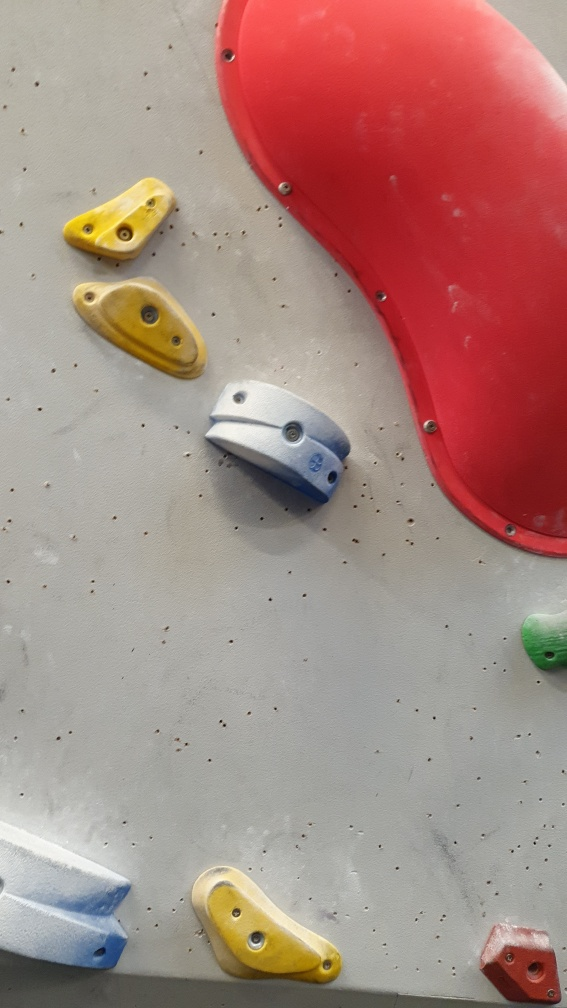Crimp: (201, 877, 331, 988), (81, 187, 180, 262)
Pinch: (1, 817, 135, 976), (205, 375, 359, 506)
